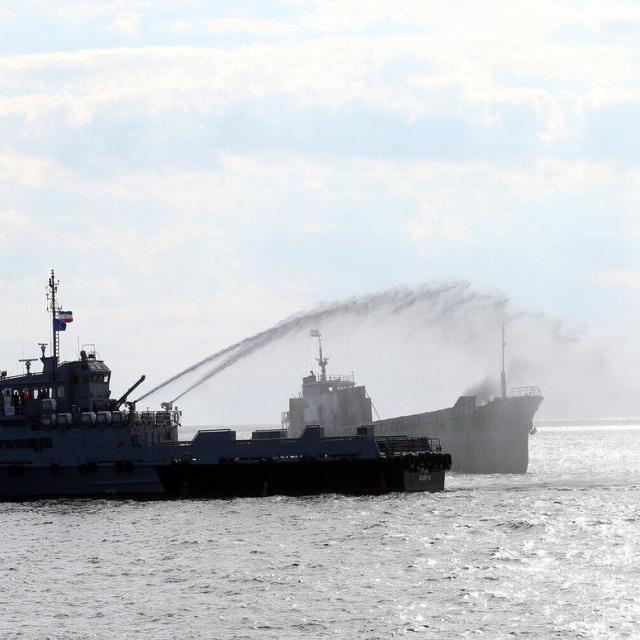navalvessels: (10, 281, 484, 494)
